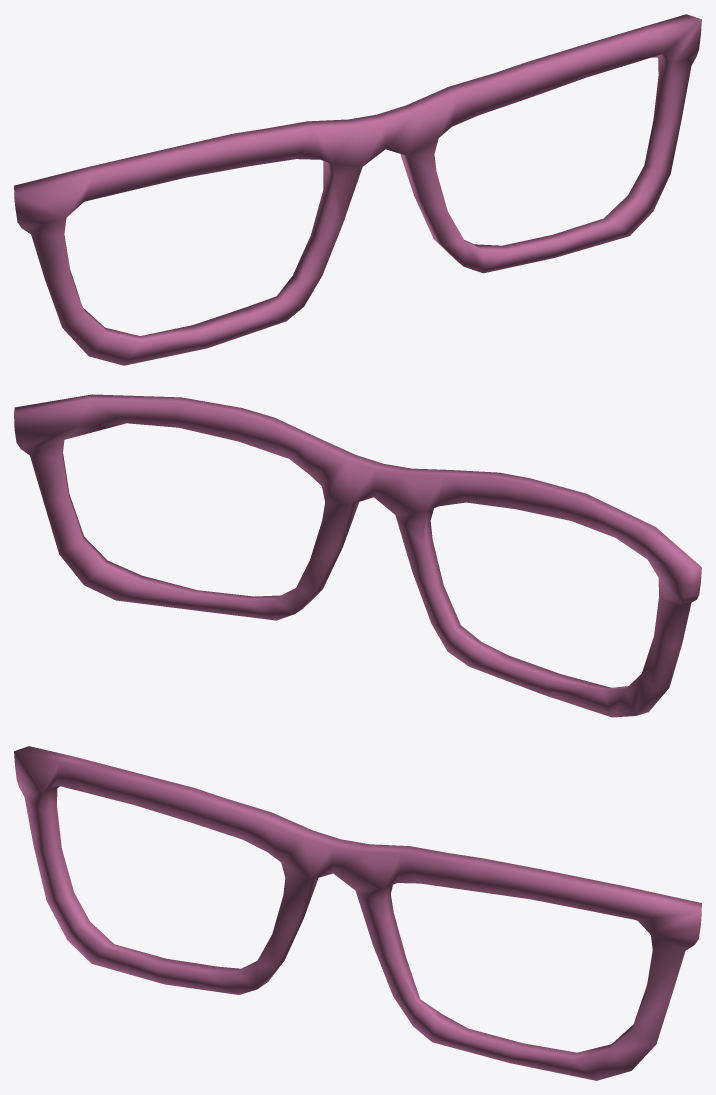
The model's file is mainframe.obj.
The picture shows the model from 3 angles, top to bottom: view 1: azimuth 30°, elevation 25°; view 2: azimuth 150°, elevation 25°; view 3: azimuth 330°, elevation 25°; orthographic projection. The views are drawn at different scales.
Visible parts, largest first — view 1: klienerglasses_reference.002; view 2: klienerglasses_reference.002; view 3: klienerglasses_reference.002.
Boxes of the visible parts, x1,y1,x2,y2 form: klienerglasses_reference.002: (14, 14, 701, 365); klienerglasses_reference.002: (14, 394, 701, 717); klienerglasses_reference.002: (14, 746, 701, 1080).
Size of the model in its own units: 5.87 by 1.67 by 0.6268.
